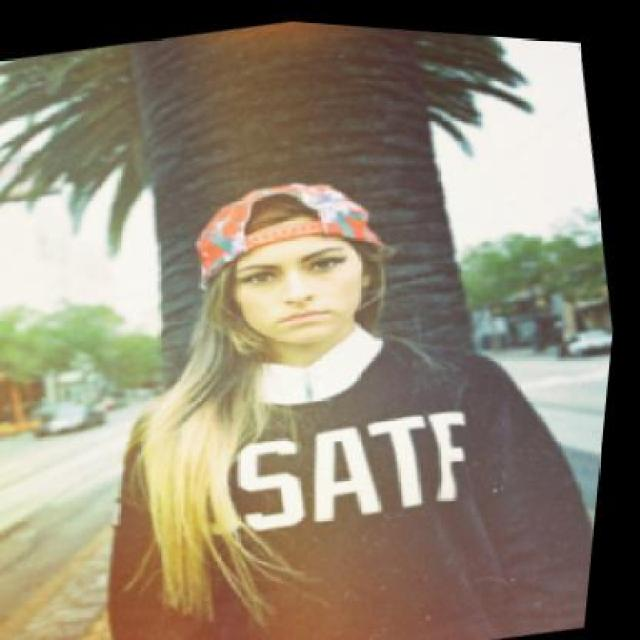hat: (176, 133, 410, 298)
